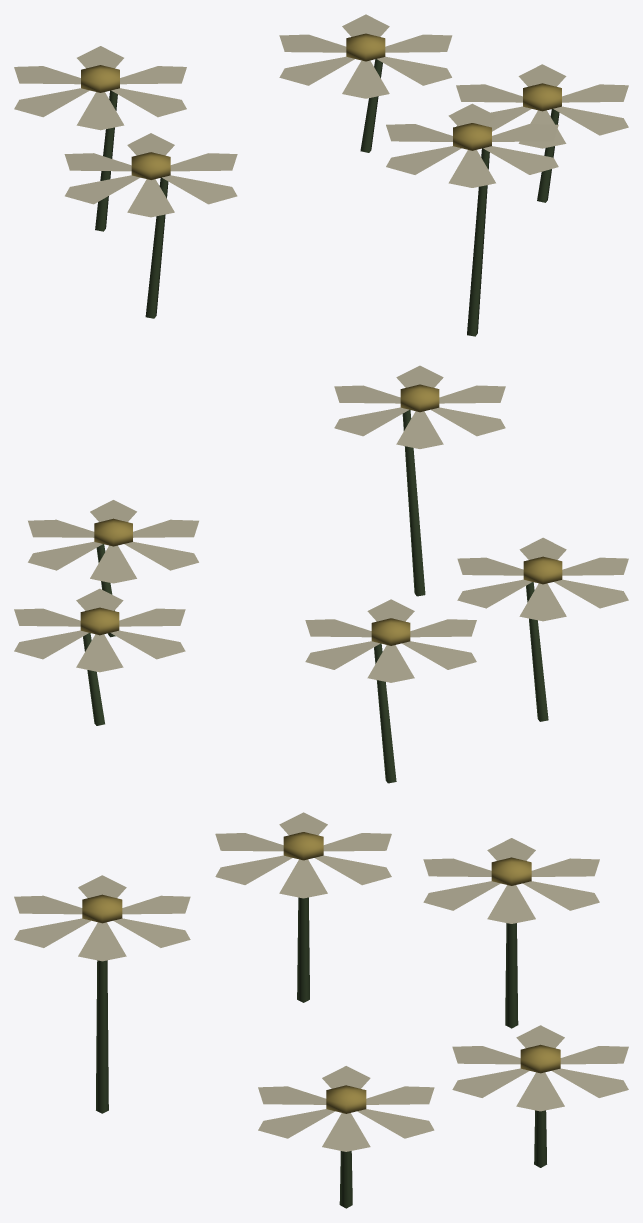
Rendered from source_5.glb.
3 renders of one model, top to bottom at view 1: azimuth 30°, elevation 25°; view 2: azimuth 150°, elevation 25°; view 3: azimuth 270°, elevation 25°, orthographic. The views are drawn at different scales.
Parts seen in each view (by area): view 1: Daisy stem; view 2: Daisy stem; view 3: Daisy stem.
Boxes of the visible parts, x1=… form: Daisy stem: x1=14, y1=14, x2=628, y2=336; Daisy stem: x1=14, y1=365, x2=628, y2=783; Daisy stem: x1=14, y1=812, x2=628, y2=1208.
Size of the model in its own units: 1.69 by 0.5725 by 1.51.
